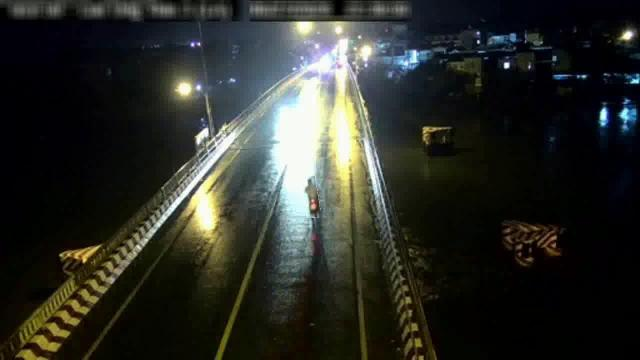Bike: (302, 176, 320, 218)
